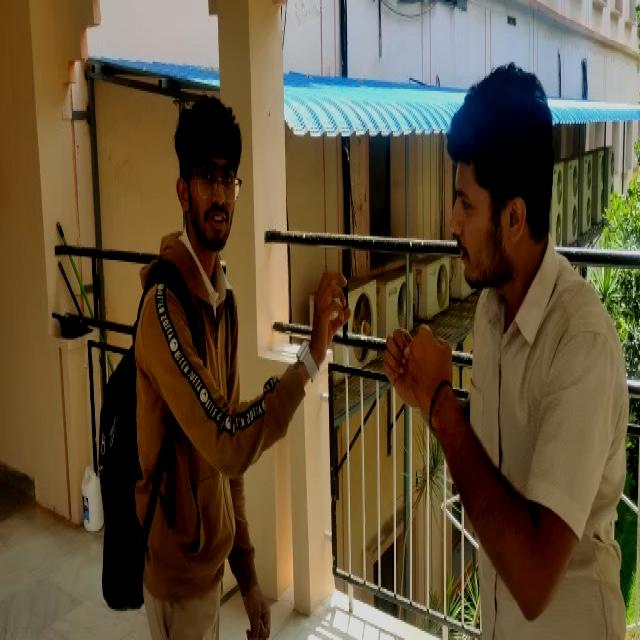fight: (32, 35, 623, 603)
